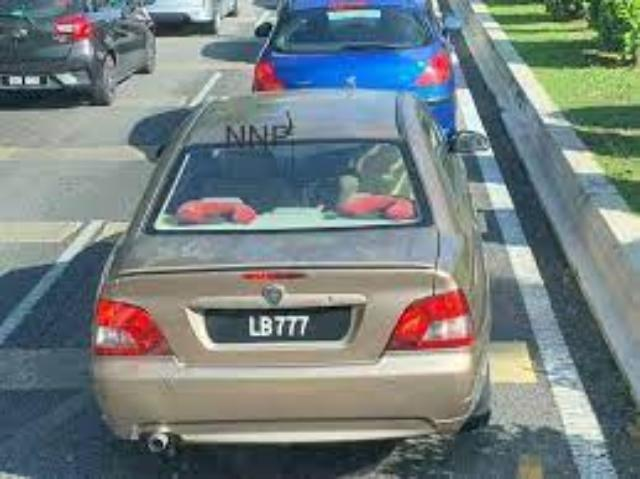License_Plate: (200, 300, 359, 355)
car: (82, 91, 500, 455)
